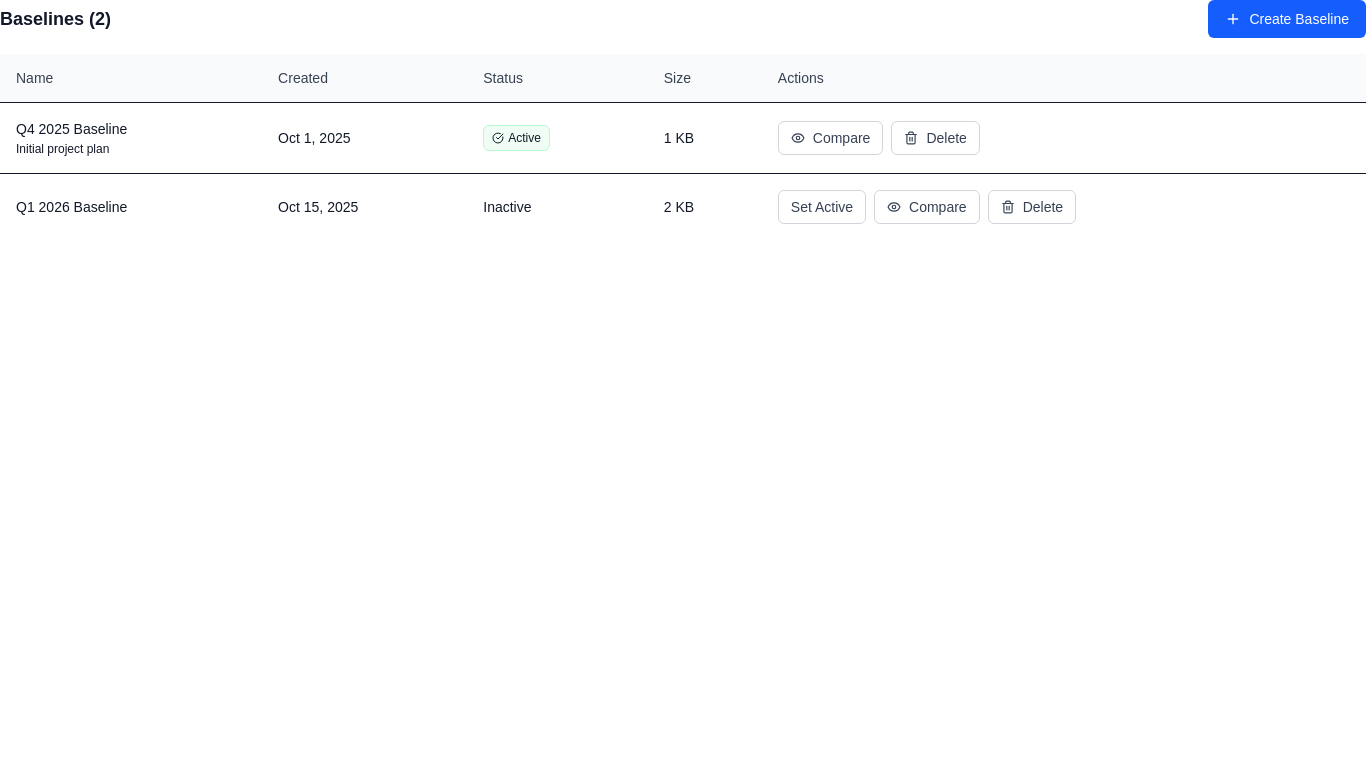
Test case: BaselineList › Delete Baseline › shows confirmation dialog when delete clicked
Expected: the text "Q4 2025 Baseline" is shown, [16, 120, 127, 136]
Step 1. Click the button "Delete" in the row of "Q4 2025 Baseline" → (936, 138), box [891, 120, 980, 154]
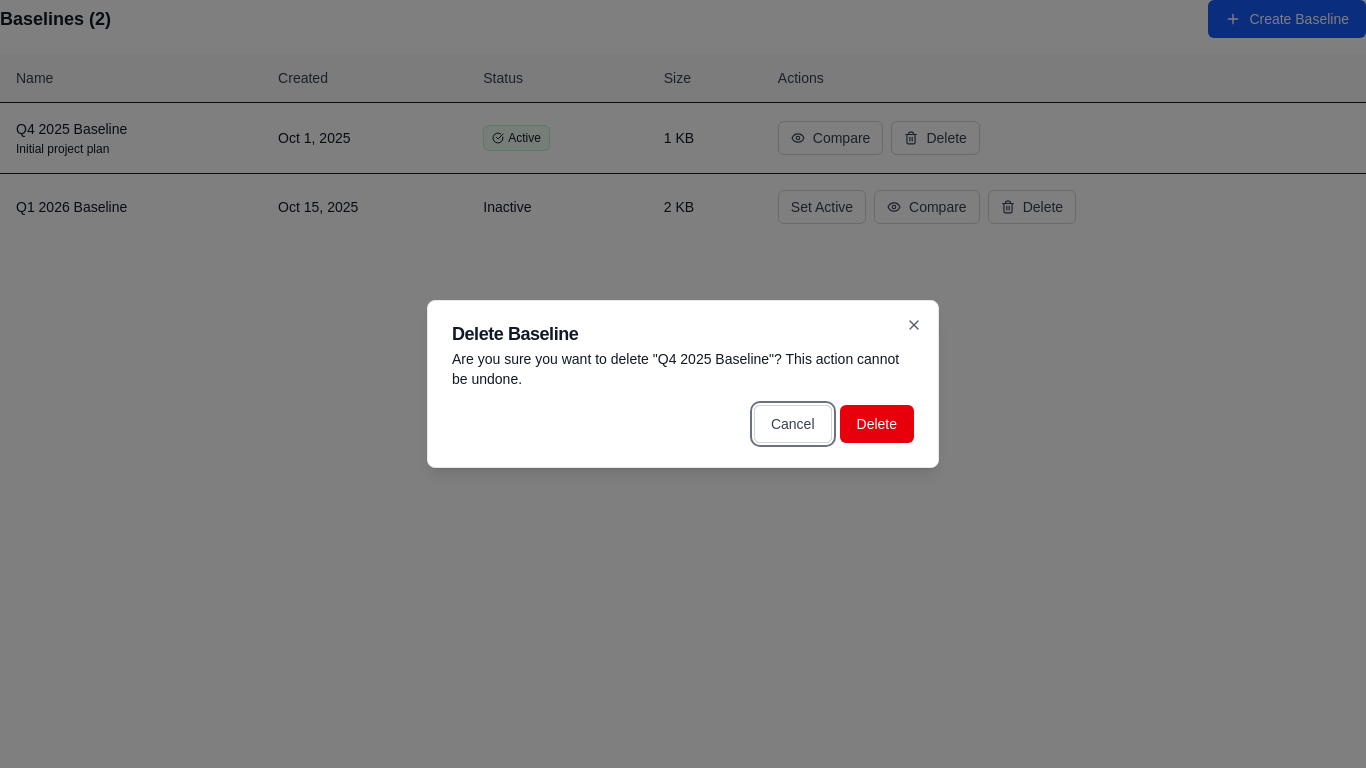
Result: the dialog is shown at [427, 300, 939, 468]
Result: the text "Are you sure" is shown at [452, 351, 658, 367]
